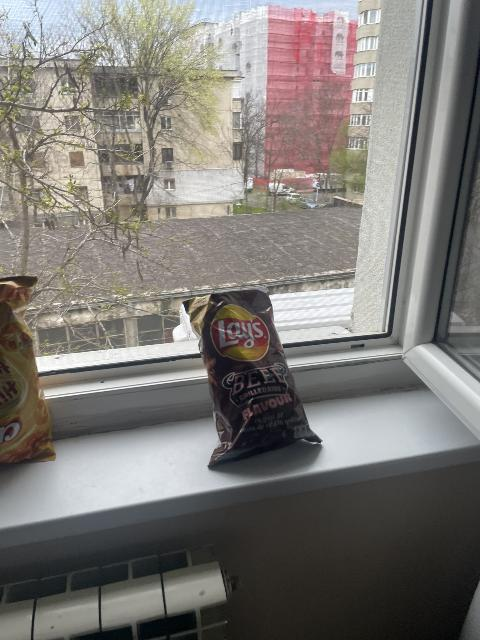Chio Hula Hoops Cheese 70g: (0, 273, 55, 462)
Lays Beef Grilled Ribs 125g: (183, 289, 321, 471)
